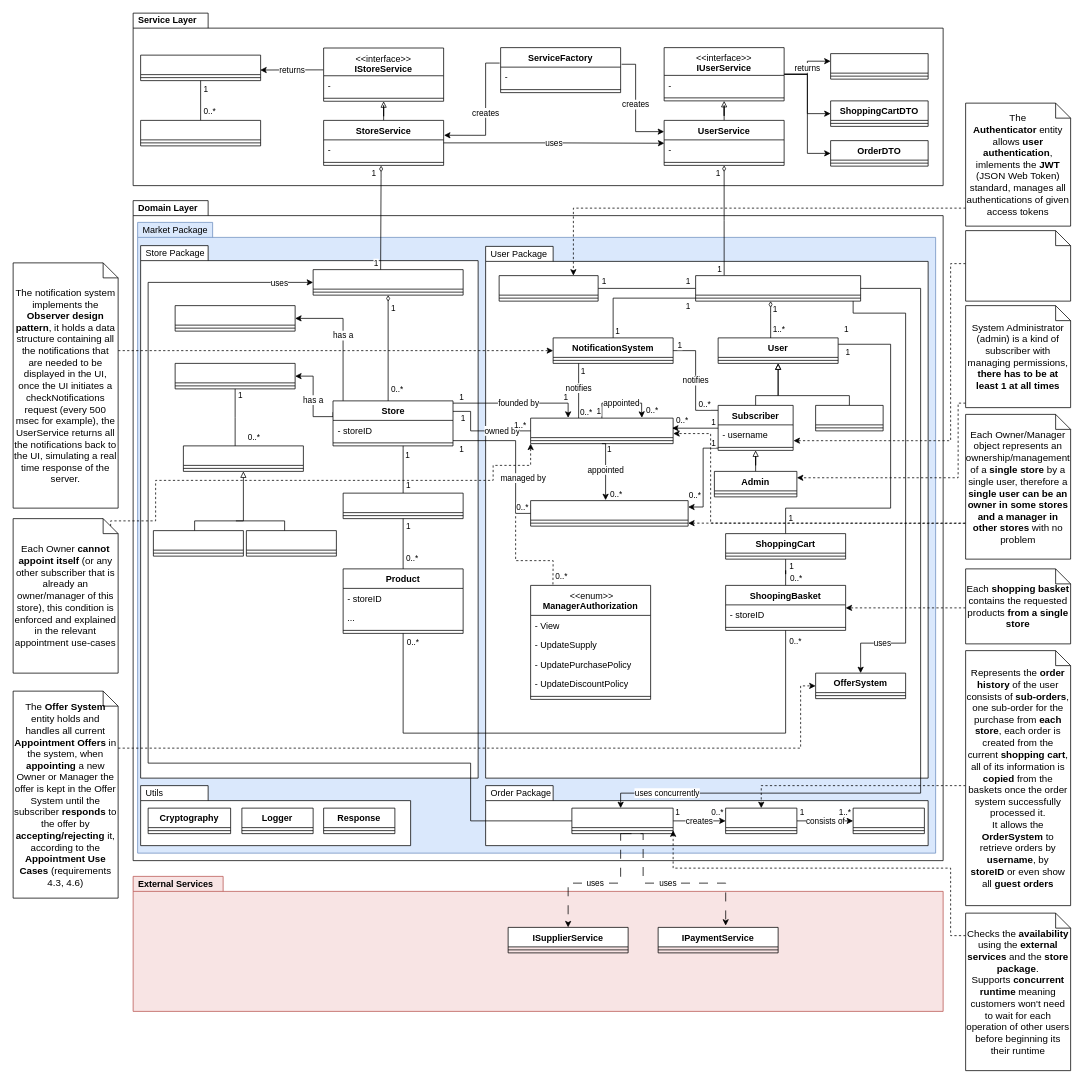
Image size: 1084x1084. Some labels were removed from this diagram. The shapes that lost their labels are listed below. From the top down, each one's centre as x and y in pixels, then its label:
At point 200,67: "StoreDTO".
At point 879,66: "UserDTO".
At point 200,133: "ProductDTO".
At point 387,282: "StoreController".
At point 1018,265: "Each registered user (subscriber) has a unique username".
At point 548,288: "Authenticator".
At point 778,288: "UserController".
At point 234,318: "PurchasePolicy".
At point 234,376: "DiscountPolicy".
At point 601,430: "Owner".
At point 849,418: "Guest".
At point 243,458: "Discount".
At point 402,505: "Inventory".
At point 609,513: "Manager".
At point 198,543: "VisibleDiscount".
At point 291,543: "HiddenDiscount".
At point 622,820: "OrderSystem".
At point 761,820: "Order".
At point 888,820: "SubOrder".
